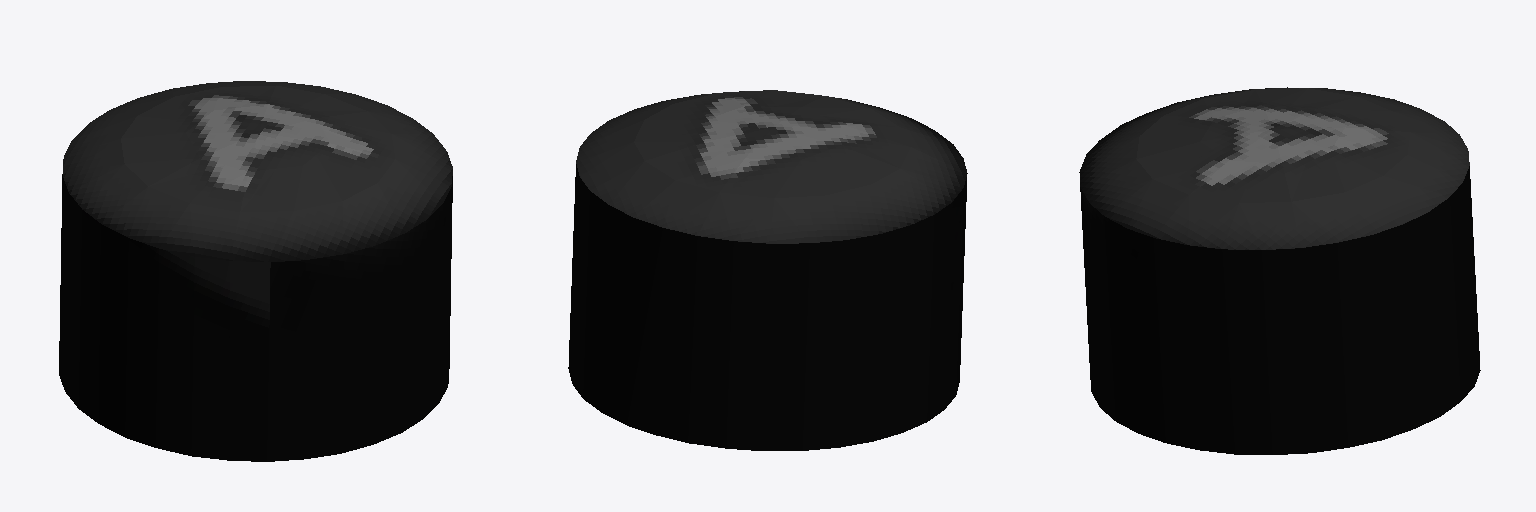
3 renders of one model, left to right at view 1: azimuth 30°, elevation 25°; view 2: azimuth 150°, elevation 25°; view 3: azimuth 270°, elevation 25°, orthographic.
Parts seen in each view (by area): view 1: RA; view 2: RA; view 3: RA.
Boxes of the visible parts, x1,y1,x2,y2 form: RA: [59, 81, 452, 461]; RA: [568, 90, 967, 450]; RA: [1079, 87, 1480, 454].
Bounding box in the file's own units: 0.0096 × 0.0068 × 0.0098.
Materials: 1 (1 with a texture image).